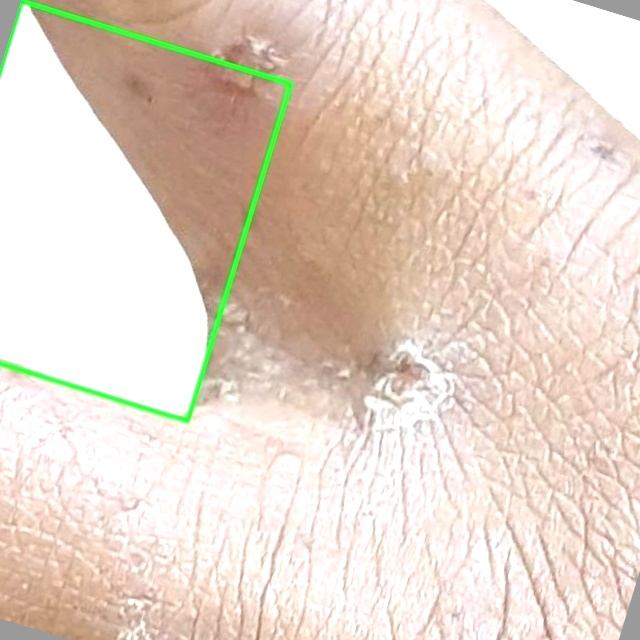Scabies: (0, 0, 290, 420)
